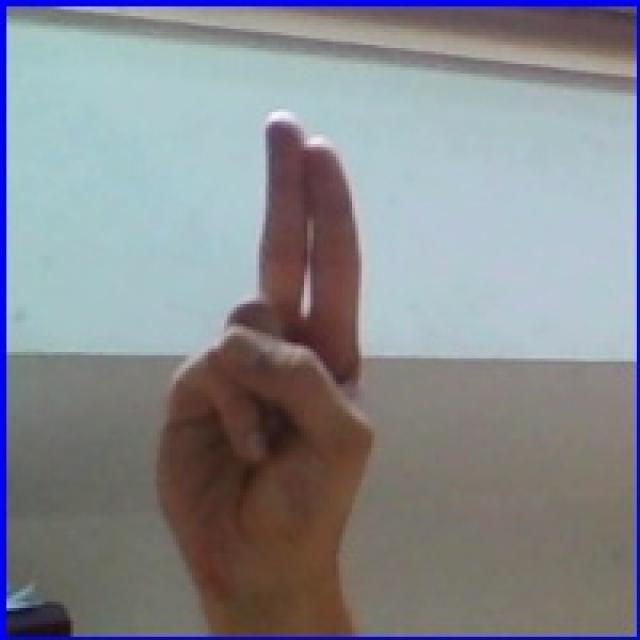Letra-U: (125, 91, 422, 593)
